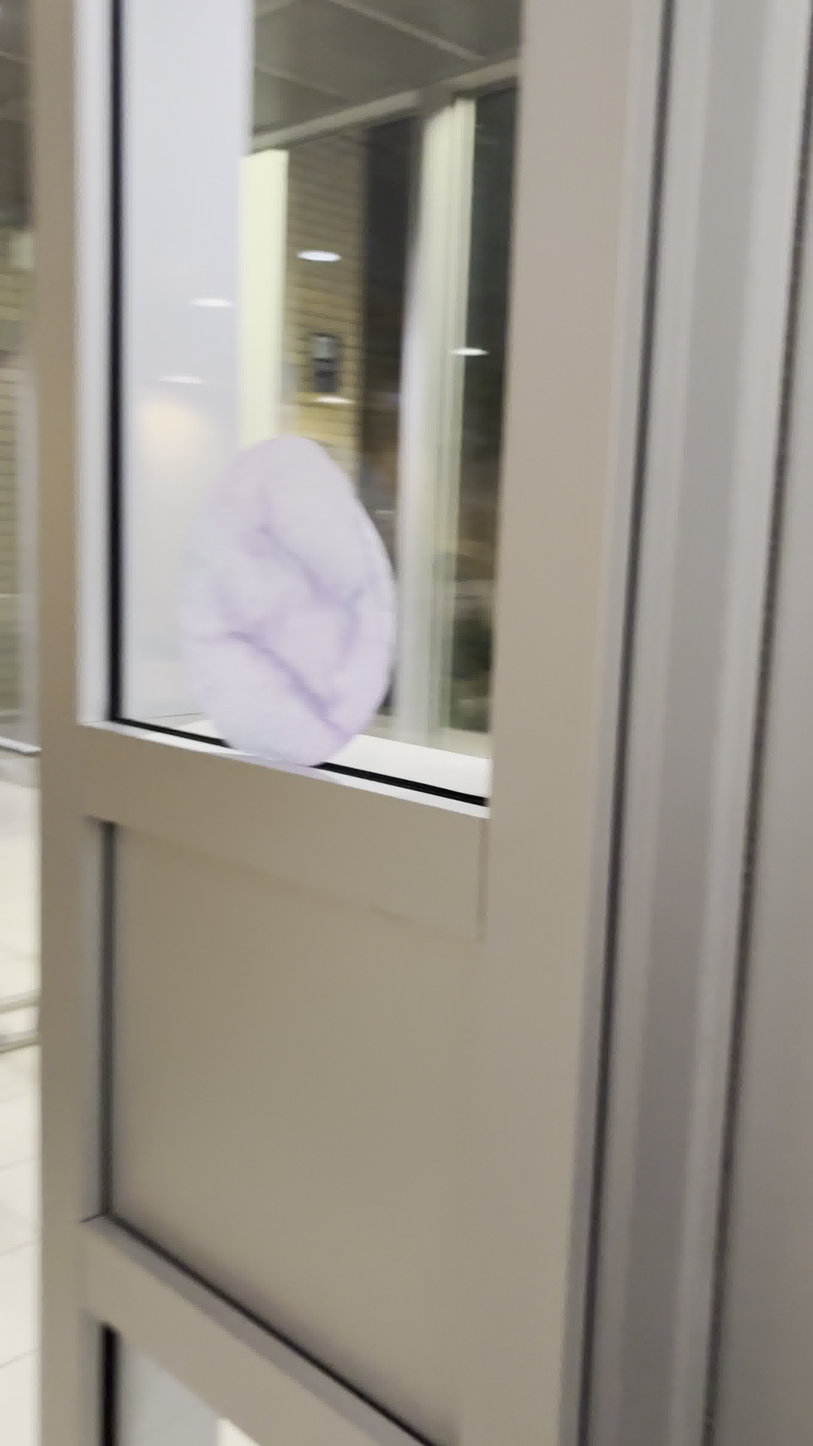Target: (175, 436, 403, 783)
